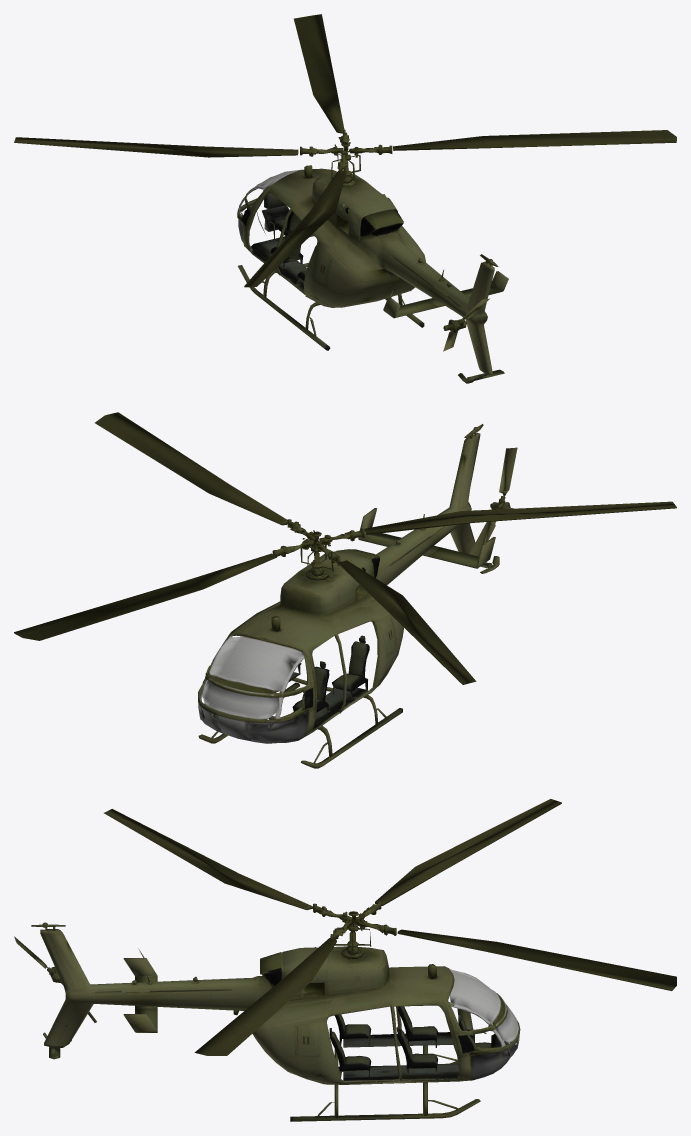
Rendered from helicopter.glb.
The picture shows the model from 3 angles, top to bottom: view 1: azimuth 30°, elevation 25°; view 2: azimuth 150°, elevation 25°; view 3: azimuth 270°, elevation 25°; orthographic projection. The views are drawn at different scales.
Visible parts, largest first — view 1: body, rotor, tail-rotor; view 2: body, rotor, tail-rotor; view 3: body, rotor.
Boxes of the visible parts, bbox=[...] form: body: bbox=[237, 153, 508, 383]; rotor: bbox=[14, 14, 676, 287]; tail-rotor: bbox=[443, 298, 489, 351]; body: bbox=[198, 424, 499, 768]; rotor: bbox=[14, 412, 676, 684]; tail-rotor: bbox=[469, 447, 517, 556]; body: bbox=[31, 922, 520, 1121]; rotor: bbox=[104, 799, 676, 1055].
Size of the model in its own units: 11.65 by 3.84 by 12.5.
1 material, 1 textured.
